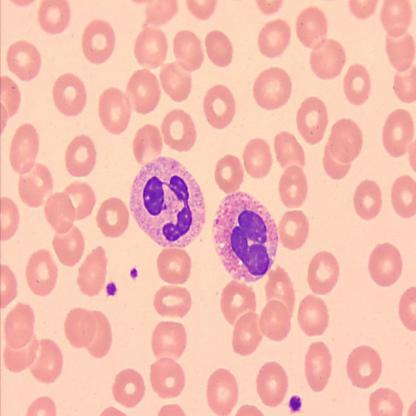Eosinophil: (210, 191, 278, 281)
